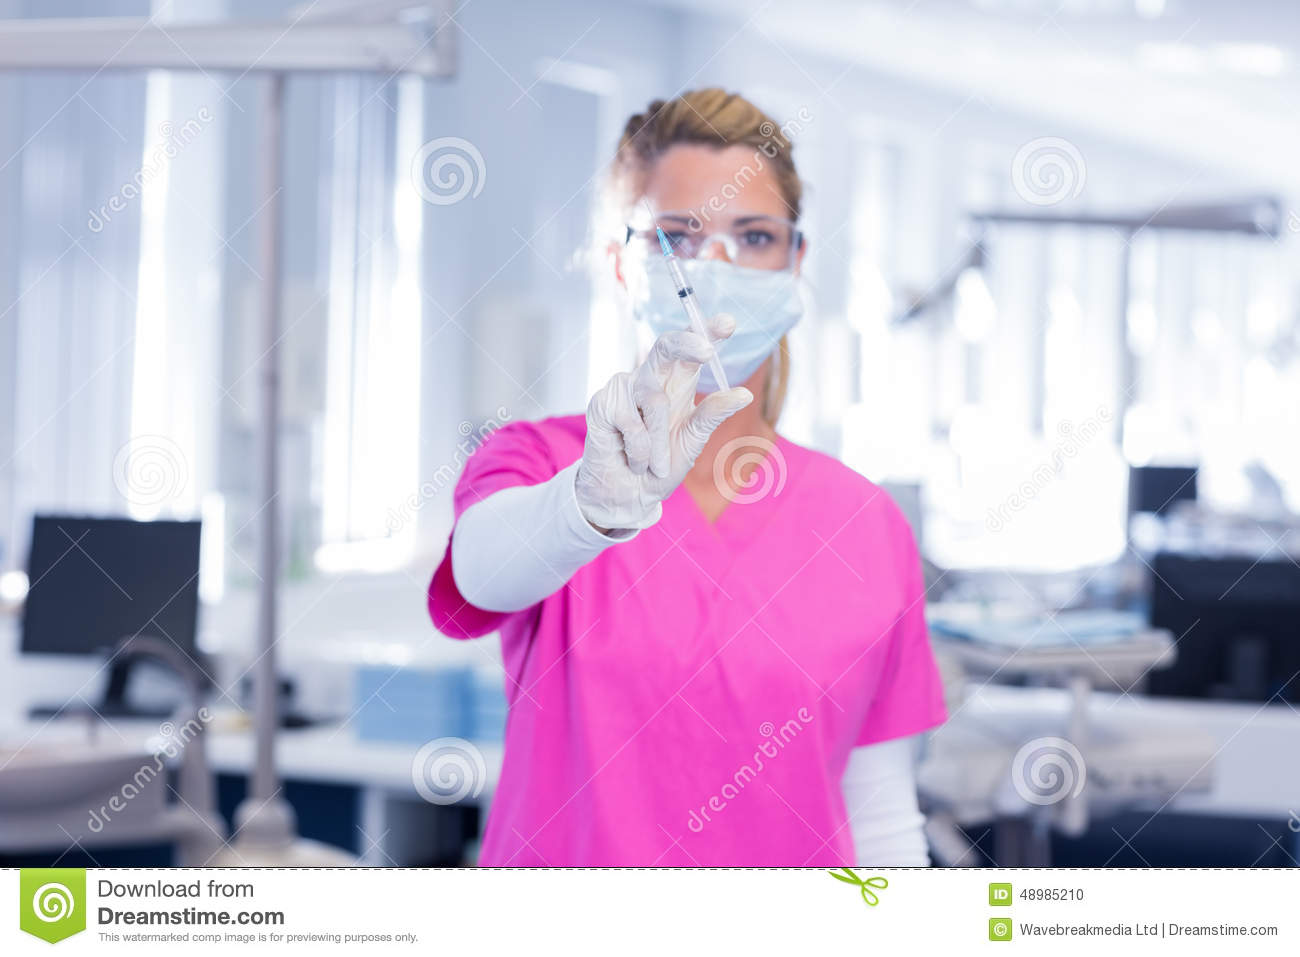mask: (620, 253, 827, 428)
